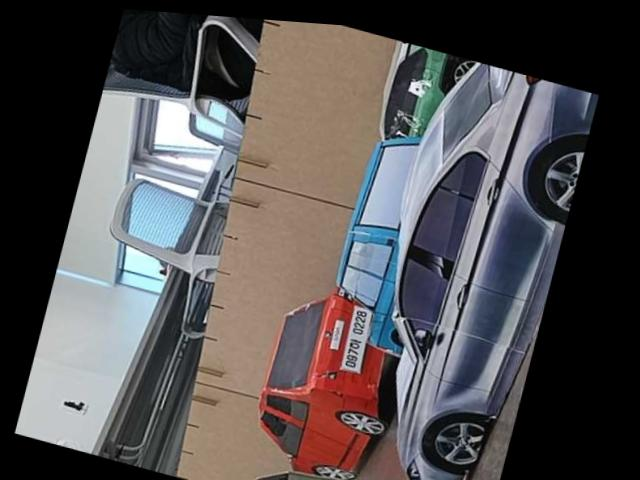car: (337, 47, 600, 480), (321, 113, 492, 365), (240, 270, 419, 480), (367, 38, 489, 169), (243, 452, 397, 480)
id: (336, 306, 370, 374)
